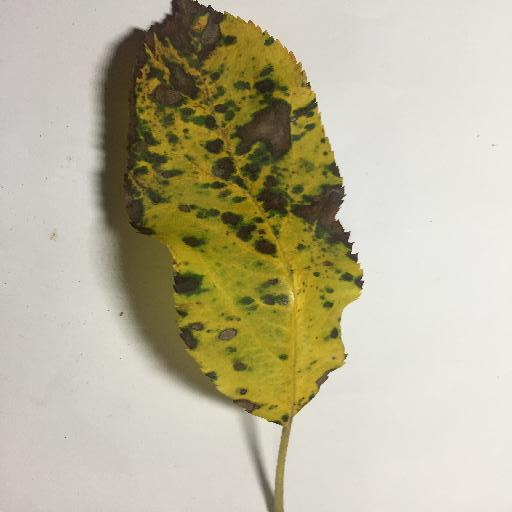Brown_Spot: (75, 7, 406, 371)
